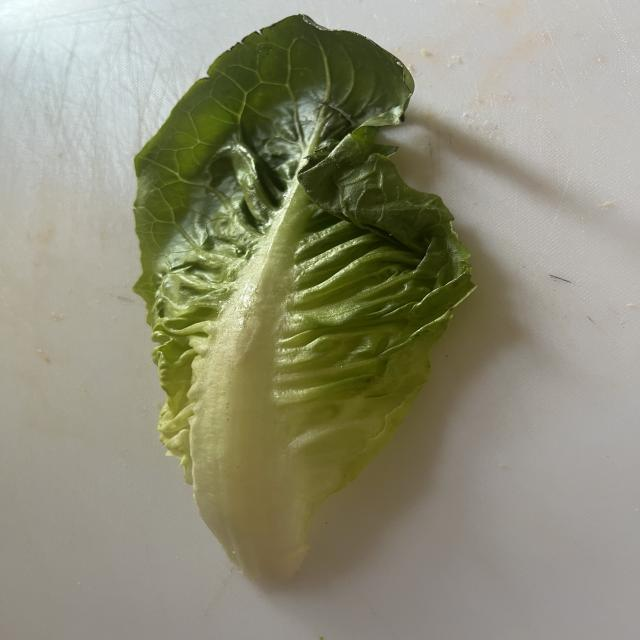lettuce: (135, 16, 474, 578)
